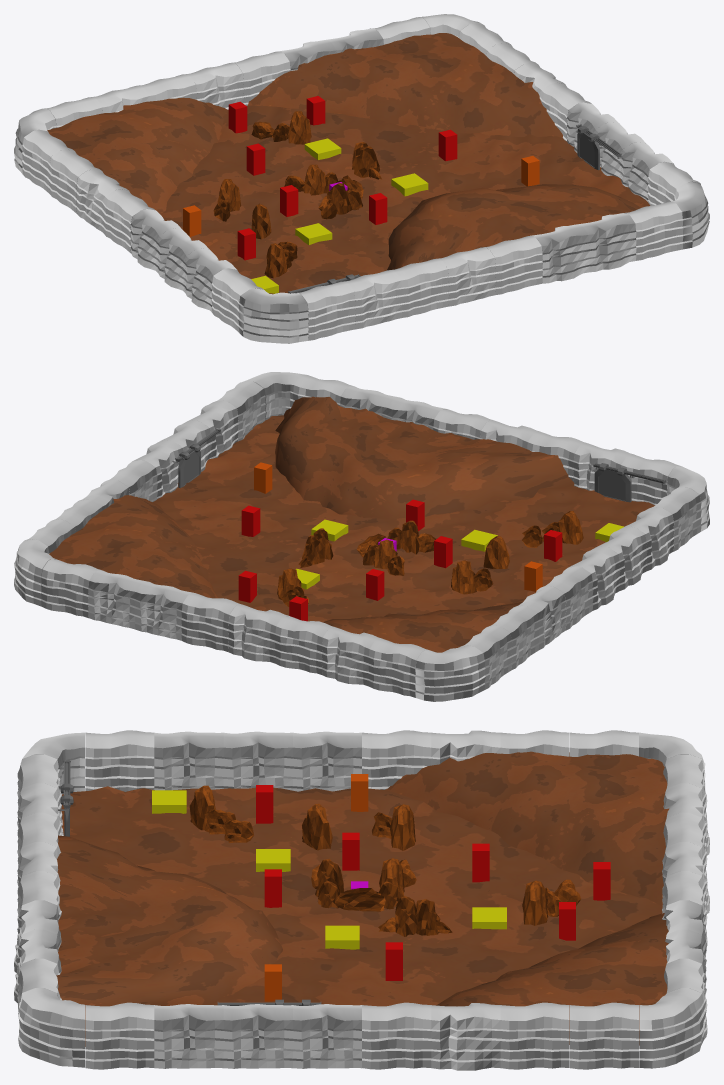
Rendered from Level1_B2C_F25.fbx.
3 views of the same model, one above another, from view 1: azimuth 30°, elevation 25°; view 2: azimuth 150°, elevation 25°; view 3: azimuth 270°, elevation 25° (orthographic). The views are drawn at different scales.
Visible parts, largest first — view 1: PARED023, Suelo, mountainEdge1, mountainCircleHalf, mountainEdge, GeoSphere014, GeoSphere002, maindoor1, Trap, Blurrg1, Stormtrooper1, Blurrg (+8 smaller); view 2: PARED023, Suelo, mountainCircleHalf, mountainEdge1, GeoSphere014, mountainEdge, GeoSphere002, maindoor, maindoor1, Blurrg, Stormtrooper4, Blurrg1 (+4 smaller); view 3: PARED023, Suelo, mountainCircleHalf, mountainEdge, mountainEdge1, GeoSphere014, GeoSphere002, Trap, Trap3, Trap1, Trap2, Blurrg1 (+8 smaller).
Part boxes in pixels (x1,y1,x2,y2): PARED023: [14, 14, 709, 343]; Suelo: [160, 105, 650, 294]; mountainEdge1: [248, 33, 562, 137]; mountainCircleHalf: [387, 184, 640, 270]; mountainEdge: [47, 97, 227, 214]; GeoSphere014: [217, 111, 379, 278]; GeoSphere002: [213, 121, 381, 269]; maindoor1: [577, 126, 599, 170]; Trap: [391, 173, 428, 196]; Blurrg1: [246, 143, 265, 175]; Stormtrooper1: [228, 101, 247, 133]; Blurrg: [438, 129, 457, 161]; PARED023: [14, 372, 709, 701]; Suelo: [153, 415, 654, 622]; mountainCircleHalf: [275, 396, 574, 519]; mountainEdge1: [49, 495, 218, 598]; GeoSphere014: [277, 511, 583, 599]; mountainEdge: [323, 602, 522, 652]; GeoSphere002: [281, 522, 563, 606]; maindoor: [594, 463, 631, 502]; maindoor1: [178, 444, 200, 487]; Blurrg: [241, 505, 260, 536]; Stormtrooper4: [434, 536, 452, 568]; Blurrg1: [366, 569, 384, 600]; PARED023: [14, 730, 709, 1070]; Suelo: [61, 786, 662, 1046]; mountainCircleHalf: [56, 835, 282, 1034]; mountainEdge: [385, 751, 668, 906]; mountainEdge1: [436, 913, 668, 1019]; GeoSphere014: [189, 785, 548, 936]; GeoSphere002: [204, 809, 580, 933]; Trap: [325, 925, 359, 949]; Trap3: [152, 790, 186, 813]; Trap1: [472, 907, 506, 929]; Trap2: [256, 849, 290, 871]; Blurrg1: [472, 843, 489, 882].
Bounding box in the file's own units: 1583 × 197 × 1583.
